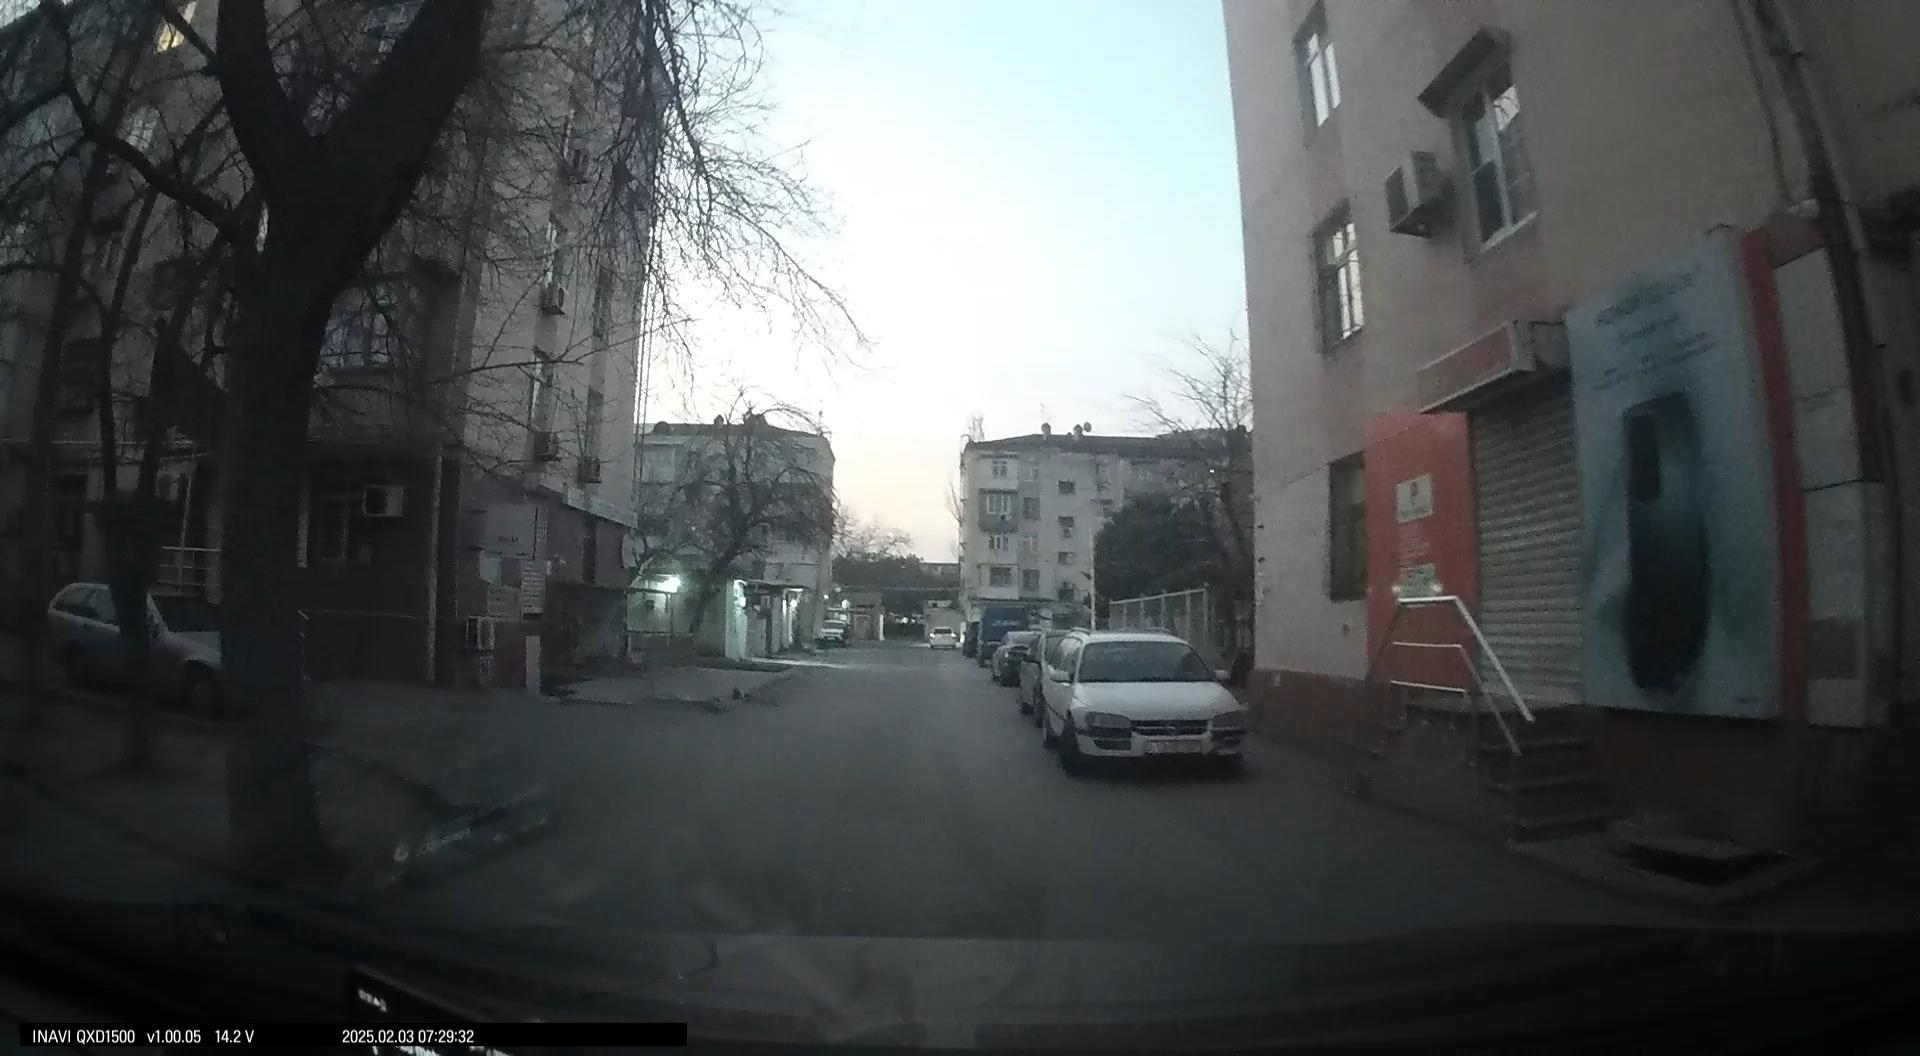banner: (1563, 233, 1792, 720)
